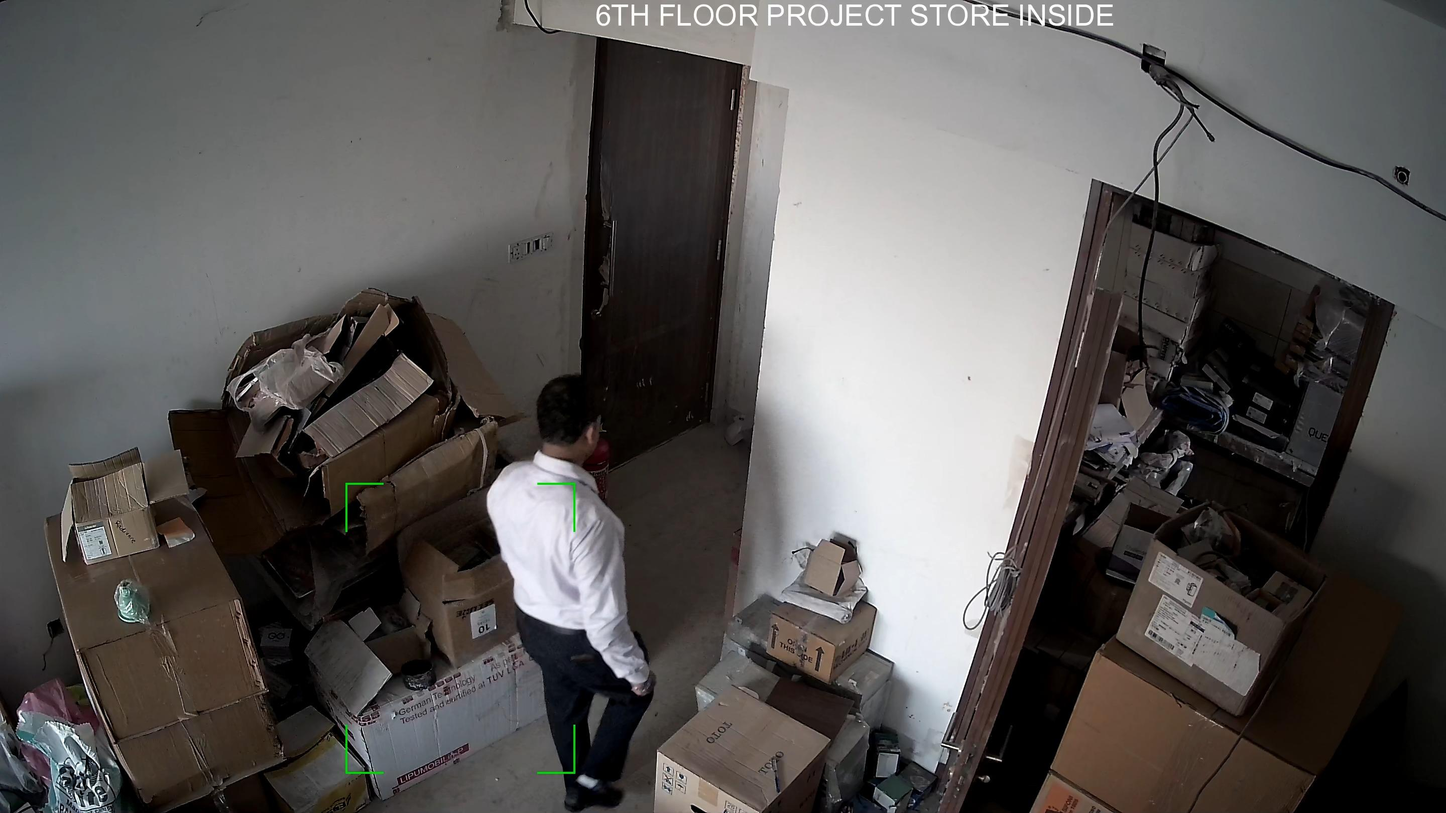Door-Close: (567, 35, 749, 454)
